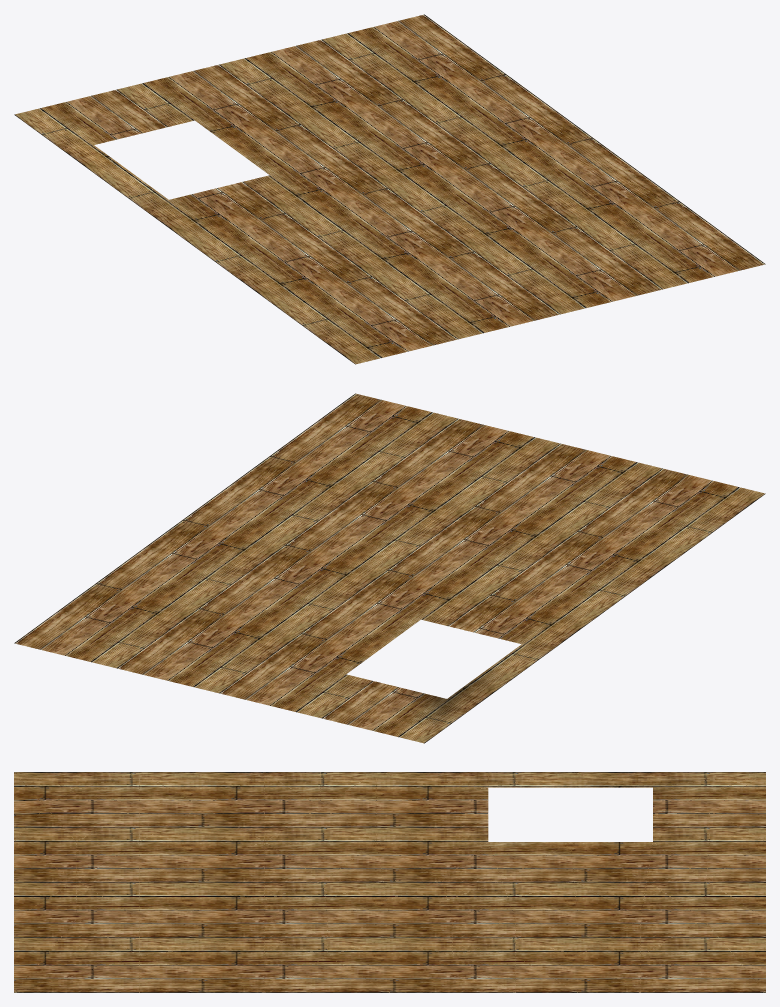
Rendered from LAKETOWN_PUB_PS_PUB_FLOOR_1373736.fbx.
3 views of the same model, one above another, from view 1: azimuth 30°, elevation 25°; view 2: azimuth 150°, elevation 25°; view 3: azimuth 270°, elevation 25° (orthographic). The views are drawn at different scales.
Parts seen in each view (by area): view 1: LAKETOWN_PUB_PS_PUB_FLOOR_1373736; view 2: LAKETOWN_PUB_PS_PUB_FLOOR_1373736; view 3: LAKETOWN_PUB_PS_PUB_FLOOR_1373736.
Part boxes in pixels (bbox=[...]): LAKETOWN_PUB_PS_PUB_FLOOR_1373736: bbox=[14, 14, 765, 364]; LAKETOWN_PUB_PS_PUB_FLOOR_1373736: bbox=[14, 393, 765, 743]; LAKETOWN_PUB_PS_PUB_FLOOR_1373736: bbox=[14, 772, 765, 992].
Size of the model in its own units: 59638 by 0.014 by 85879.
Materials: 1 (1 with a texture image).
